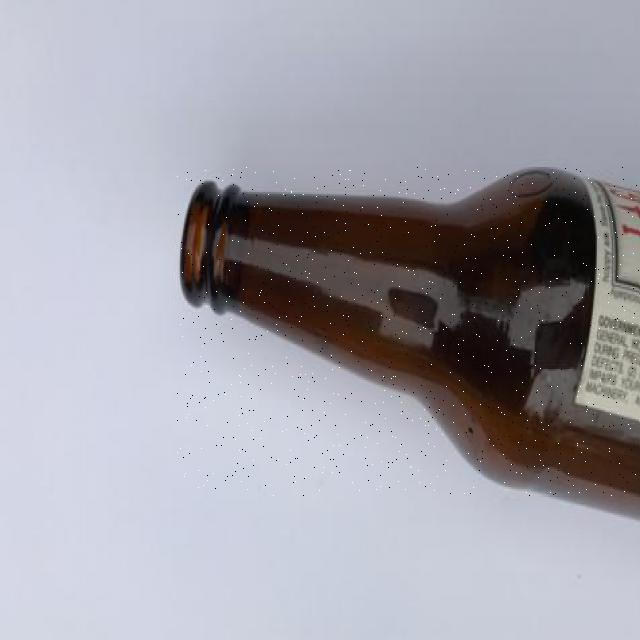glass: (178, 168, 640, 496)
